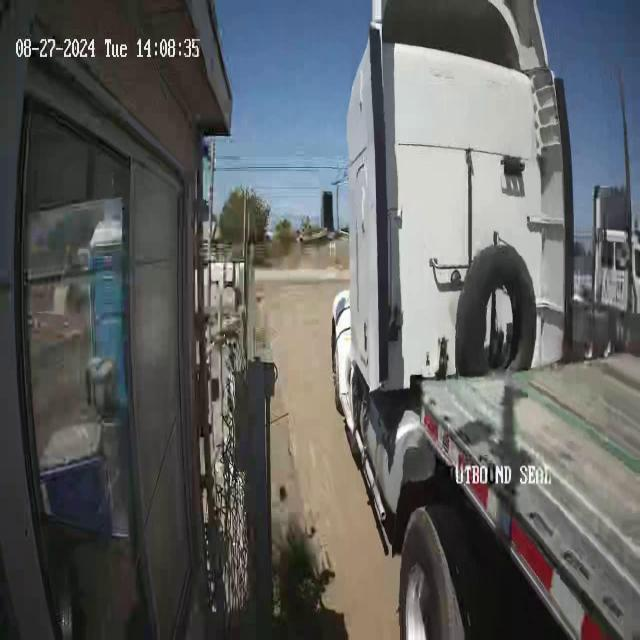BOBTAIL: (320, 2, 638, 637)
